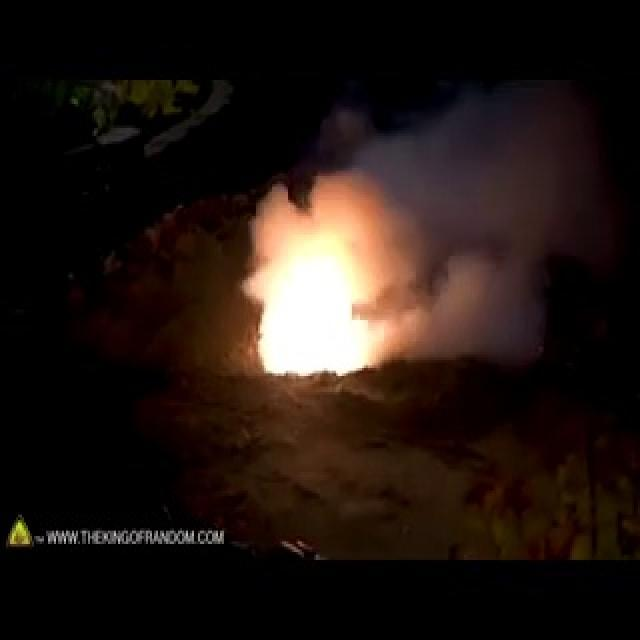Fire: (258, 184, 422, 374)
